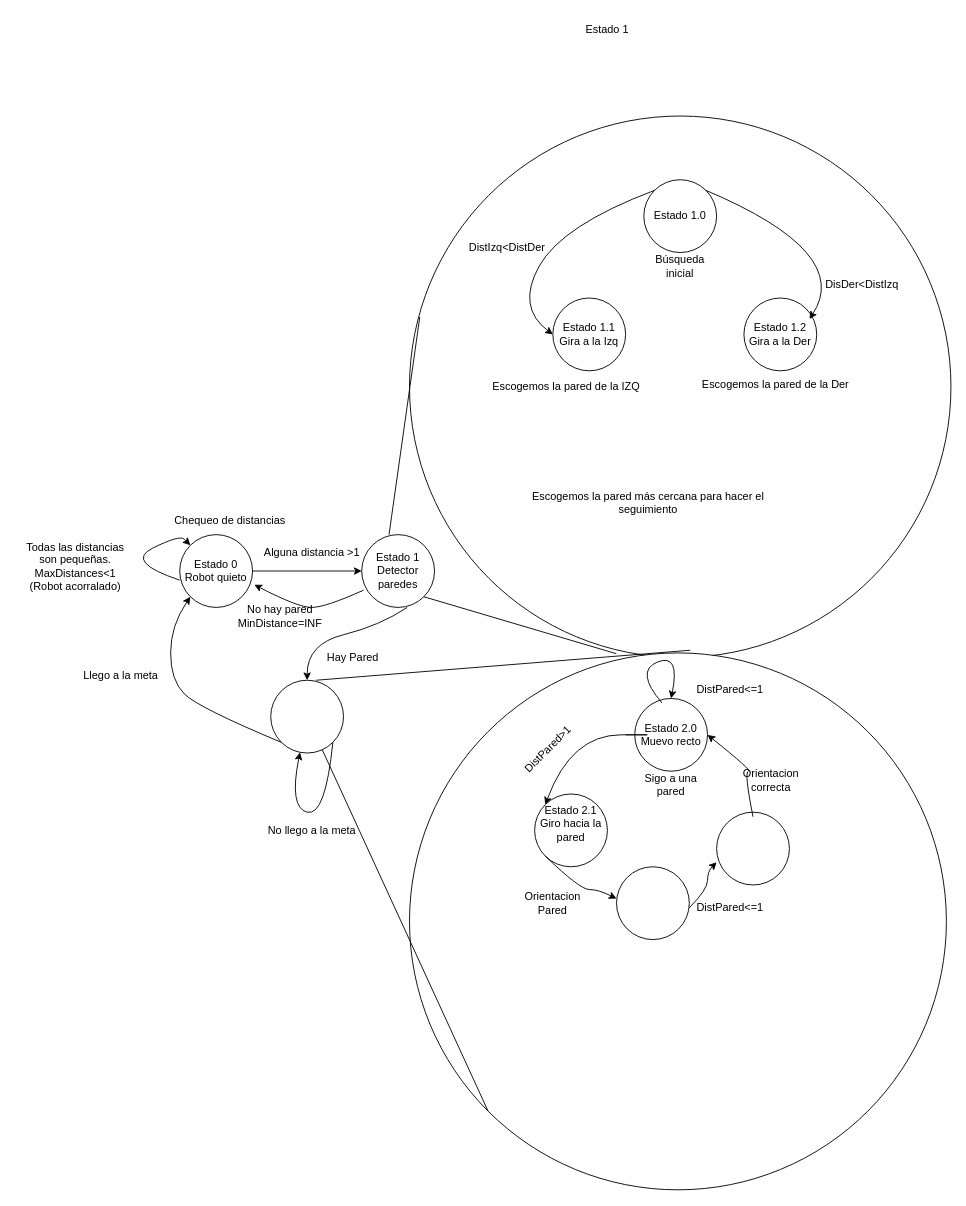
The diagram is 966 pixels wide and 1206 high, and some of its shapes have lost their labels. Here are the shapes that lost their labels. From the top down, the centre of each, then its label:
At (x=307, y=716): "Estado 2 Sigo paredes".
At (x=752, y=848): "Estado 2.3 oriento para seguir la pared".
At (x=652, y=903): "Estado 2.2 Me acerco a la pared".
